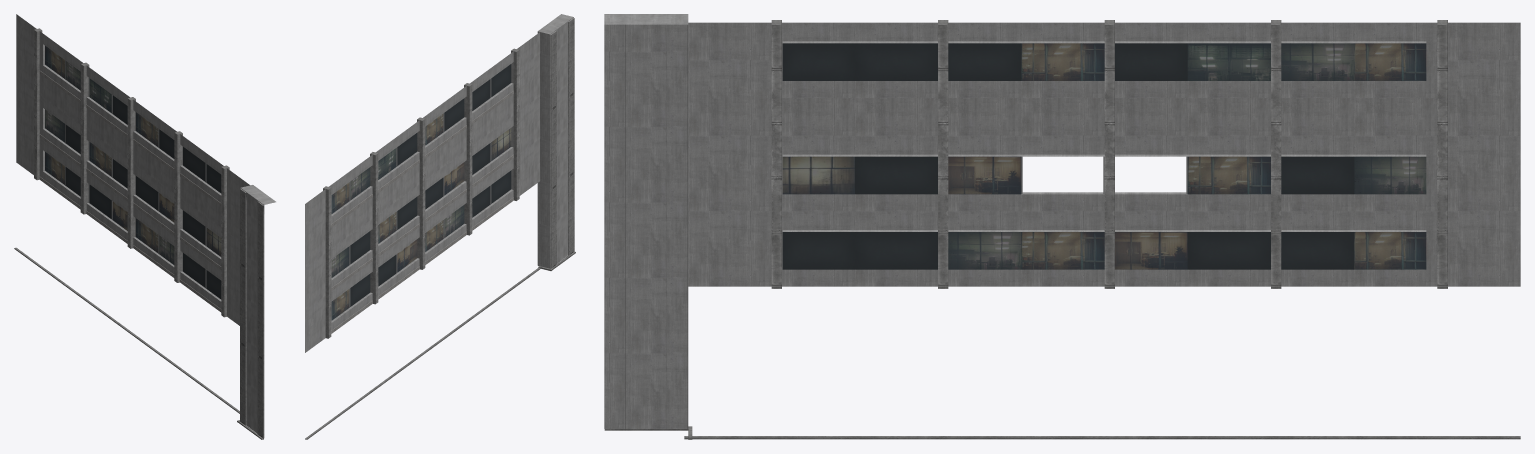
File: HH_Sector_Big_04.fbx
The picture shows the model from 3 angles, left to right: view 1: azimuth 30°, elevation 25°; view 2: azimuth 150°, elevation 25°; view 3: azimuth 270°, elevation 25°; orthographic projection. The views are drawn at different scales.
Visible parts, largest first — view 1: HH_Sector_Big_04; view 2: HH_Sector_Big_04; view 3: HH_Sector_Big_04.
Boxes of the visible parts, x1,y1,x2,y2 form: HH_Sector_Big_04: [14, 14, 275, 439]; HH_Sector_Big_04: [305, 14, 575, 439]; HH_Sector_Big_04: [604, 14, 1520, 439].
Size of what is drawn, in the model's own units: 148 by 2210 by 4404.
